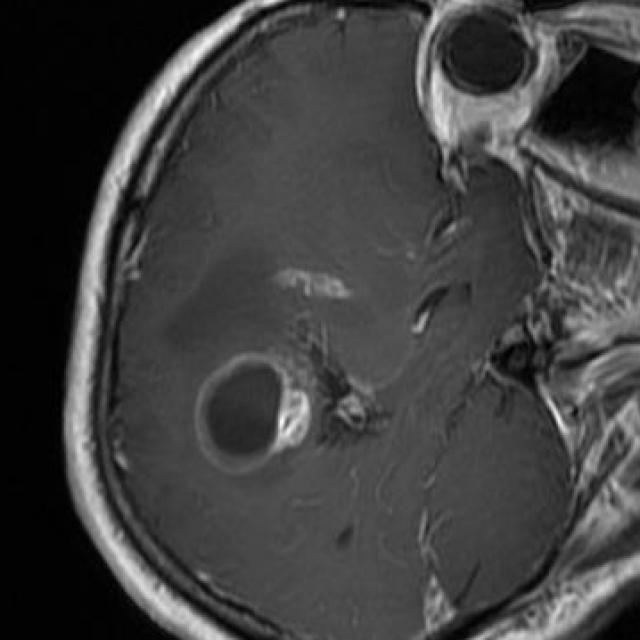glioma: (171, 246, 390, 476)
